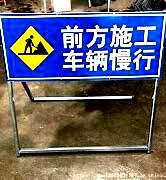sign: (2, 15, 160, 78)
